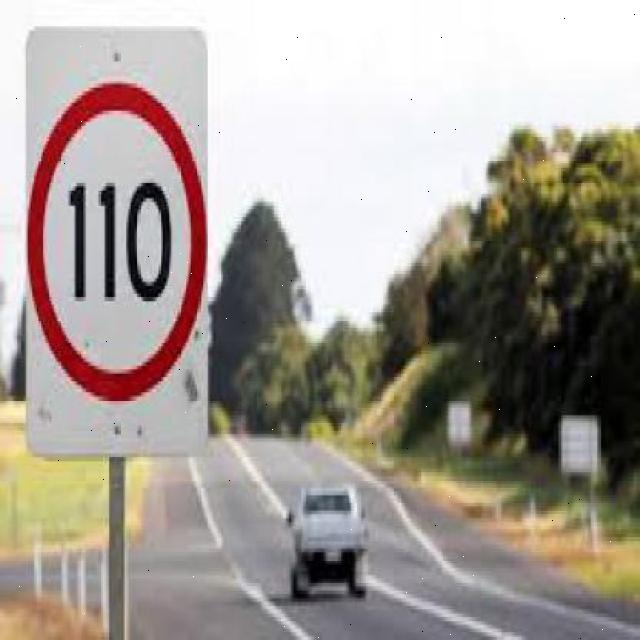speed limit 110: (28, 79, 210, 403)
